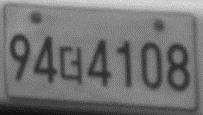0: (139, 41, 163, 89)
1: (112, 39, 138, 88)
4: (86, 38, 113, 88), (32, 35, 57, 83)
8: (166, 43, 191, 91)
9: (8, 33, 31, 81)
더: (57, 44, 84, 85)
